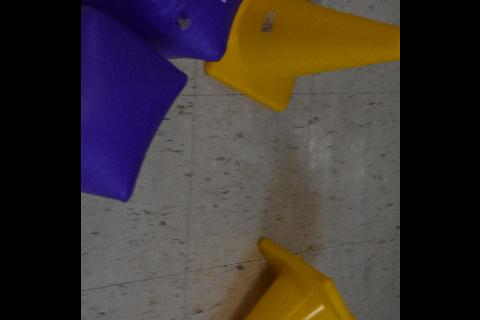cone: (204, 0, 400, 111), (180, 238, 374, 320)
cube: (80, 5, 188, 203), (80, 0, 269, 62)
